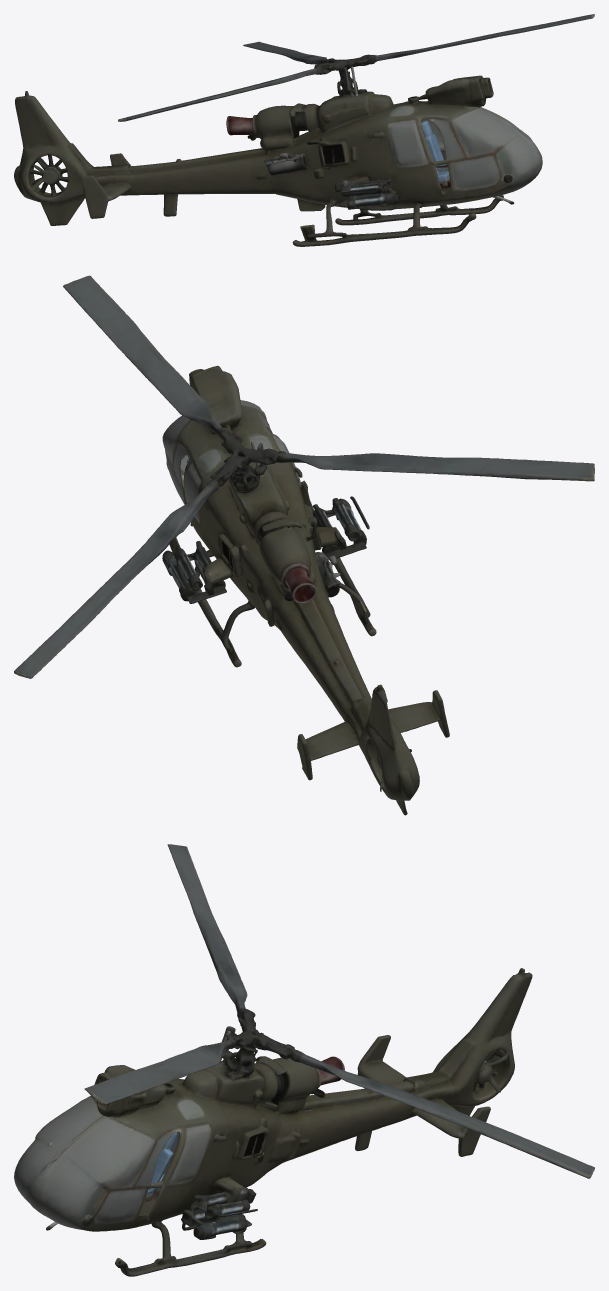
Rendered from pixal3d.glb.
3 views of the same model, one above another, from view 1: azimuth 30°, elevation 25°; view 2: azimuth 150°, elevation 25°; view 3: azimuth 270°, elevation 25° (orthographic). The views are drawn at different scales.
Parts seen in each view (by area): view 1: world; view 2: world; view 3: world.
Part boxes in pixels (x1,y1,x2,y2): world: (14,14,594,246); world: (14,275,594,815); world: (14,844,594,1276).
Size of the model in its own units: 0.8182 by 0.3842 by 0.7107.
1 material, 1 textured.
